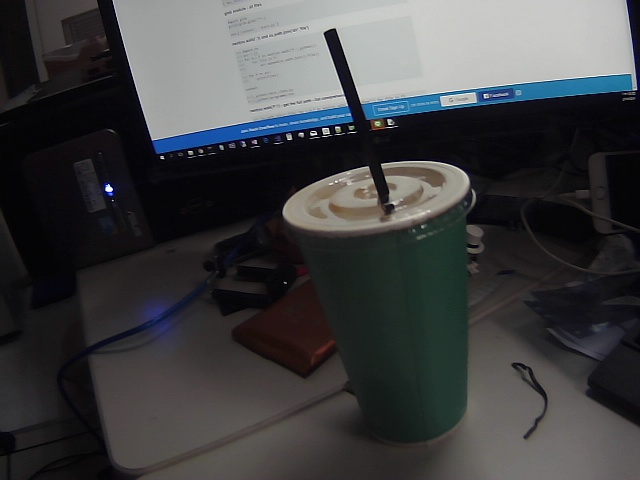beverage: (256, 17, 522, 459)
